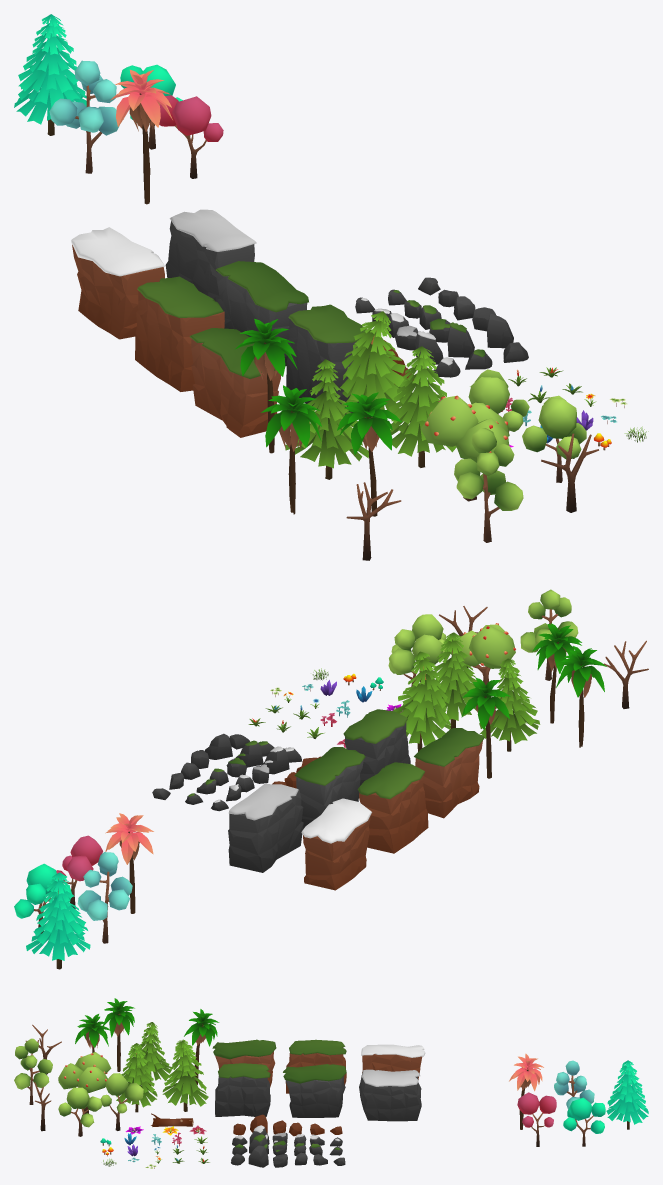
The picture shows the model from 3 angles, top to bottom: view 1: azimuth 30°, elevation 25°; view 2: azimuth 150°, elevation 25°; view 3: azimuth 270°, elevation 25°; orthographic projection. The views are drawn at different scales.
Parts seen in each view (by area): view 1: ClifGg2, ClifGi1, ClifBg1.001, ClifBi1, ClifBg1, ClifBg2, TreeVC, TreeV2, TreeV1, TreeR3, TreeV3, TreeRF (+12 smaller); view 2: ClifBi1, ClifGi1, ClifGg2, ClifBg1.001, ClifBg1, TreeV2, TreeVC, ClifBg2, TreeV3, TreeV1, TreeRC3, TreeRF (+10 smaller); view 3: ClifBi1, ClifBg1, ClifBg2, TreeV2, TreeVC, ClifGi1, ClifBg1.001, TreeRF, ClifGg2, TreeV1, TreeR3, TreeRC1 (+11 smaller).
Boxes of the visible parts, x1,y1,x2,y2 form: ClifGg2: (135,276,224,391); ClifGi1: (71,227,164,339); ClifBg1.001: (189,328,280,437); ClifBi1: (165,209,256,302); ClifBg1: (216,261,308,366); ClifBg2: (286,304,371,414); TreeVC: (14,14,90,135); TreeV2: (340,311,411,434); TreeV1: (389,346,456,467); TreeR3: (454,428,523,542); TreeV3: (285,359,368,479); TreeRF: (421,395,509,501); ClifBi1: (228,784,303,872); ClifGi1: (301,798,371,890); ClifGg2: (357,762,428,853); ClifBg1.001: (414,728,484,818); ClifBg1: (294,747,365,829); TreeV2: (393,651,450,751); TreeVC: (26,872,90,969); ClifBg2: (343,709,410,785); TreeV3: (479,658,540,751); TreeV1: (433,632,477,728); TreeRC3: (77,852,132,943); TreeRF: (450,623,515,697); ClifBi1: (359,1069,421,1121); ClifBg1: (283,1064,346,1117); ClifBg2: (215,1063,270,1116); TreeV2: (162,1039,208,1111); TreeVC: (606,1060,648,1129); ClifGi1: (361,1044,425,1079); ClifBg1.001: (212,1039,276,1087); TreeRF: (58,1052,111,1113); ClifGg2: (285,1039,346,1093); TreeV1: (116,1043,157,1112); TreeR3: (14,1038,52,1104); TreeRC1: (563,1097,605,1146).
Bounding box in the file's own units: 3651 × 1157 × 9075.
Materials: 1 (1 with a texture image).
